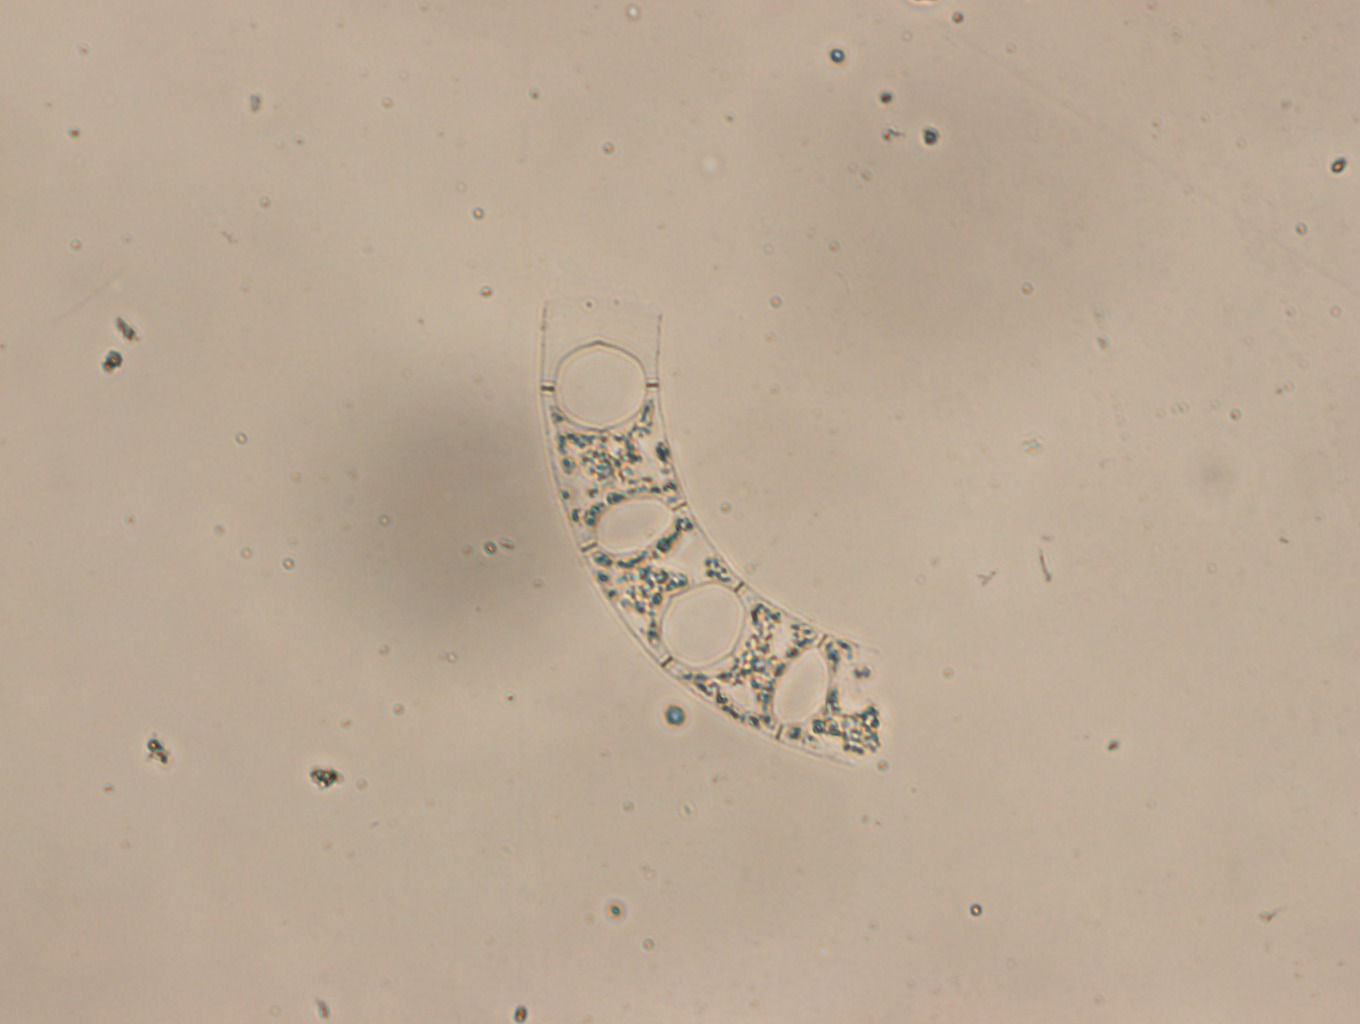eucampia: (539, 298, 882, 767)
